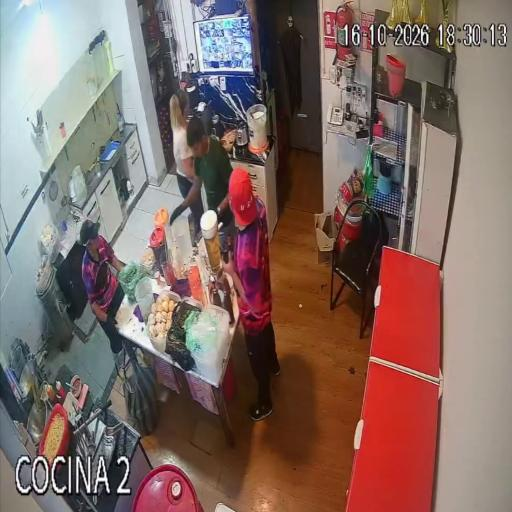Balde: (246, 104, 268, 154)
Envase Ketchup: (56, 381, 66, 398)
Envase Llajua: (69, 375, 82, 398)
Jarra1: (149, 227, 167, 275)
Jarra2: (155, 208, 172, 248)
Jarra3: (135, 277, 154, 321)
Jarra4: (172, 215, 192, 266)
Jarra5: (201, 210, 221, 274)
Licuadora: (211, 115, 224, 139)
Licuadora2: (236, 122, 248, 146)
Microondas: (195, 104, 214, 135)
Persona1: (223, 168, 280, 421)
Persona2: (170, 90, 204, 237)
Persona3: (170, 118, 235, 241)
Persona5: (80, 219, 126, 368)
Taper: (141, 247, 155, 274)
Taper2: (145, 290, 181, 352)
Taper3: (180, 297, 203, 312)
Taper4: (186, 305, 229, 386)
